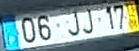0: (20, 16, 36, 45)
1: (104, 5, 114, 30)
6: (36, 14, 51, 42)
7: (112, 4, 124, 30)
J: (66, 10, 80, 37), (81, 7, 94, 35)
